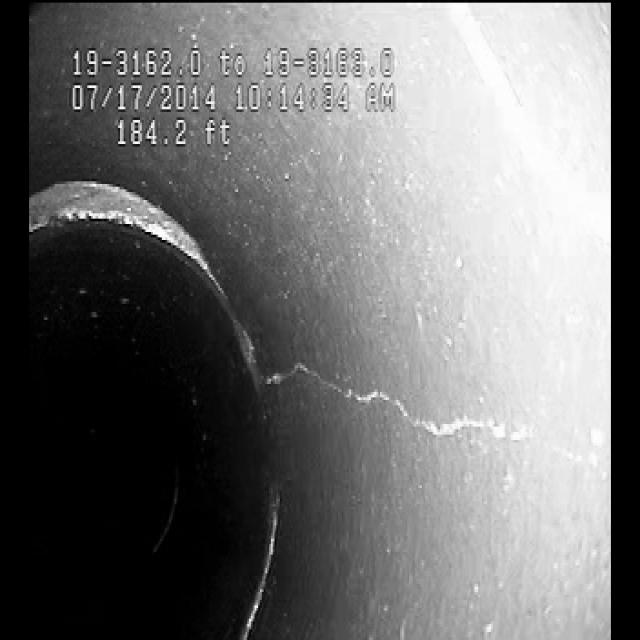Crack: (280, 330, 580, 480)
